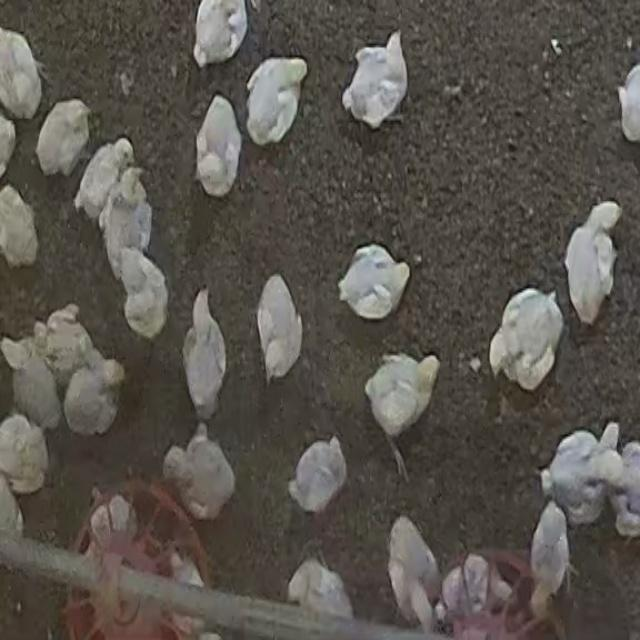chicken: (544, 424, 635, 530), (365, 354, 439, 478), (489, 289, 564, 393), (162, 426, 235, 523), (562, 202, 620, 324), (339, 35, 410, 133), (386, 516, 442, 636), (0, 332, 62, 436), (99, 168, 154, 280), (182, 289, 228, 422), (245, 58, 308, 146), (339, 244, 410, 322), (256, 274, 304, 386), (114, 242, 168, 341), (62, 353, 123, 440), (74, 135, 133, 221), (41, 305, 103, 386), (194, 94, 243, 196), (286, 554, 355, 624), (288, 437, 347, 518), (528, 506, 572, 612), (35, 100, 92, 178), (1, 25, 46, 120), (0, 414, 50, 496), (446, 557, 513, 615), (194, 0, 250, 69), (0, 182, 40, 269), (87, 492, 140, 542), (174, 553, 207, 633), (616, 60, 640, 145)
